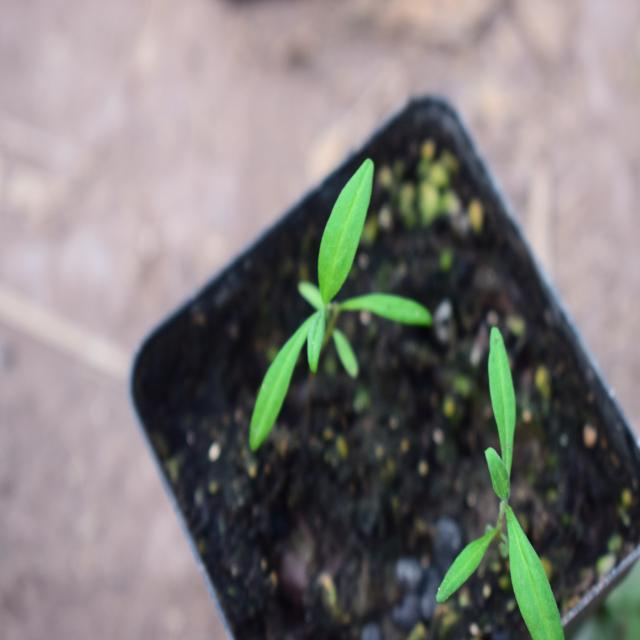white_smart_weed: (217, 113, 436, 457)
